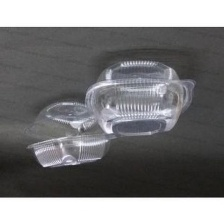plastic_box: (77, 51, 202, 144), (21, 93, 122, 174)
